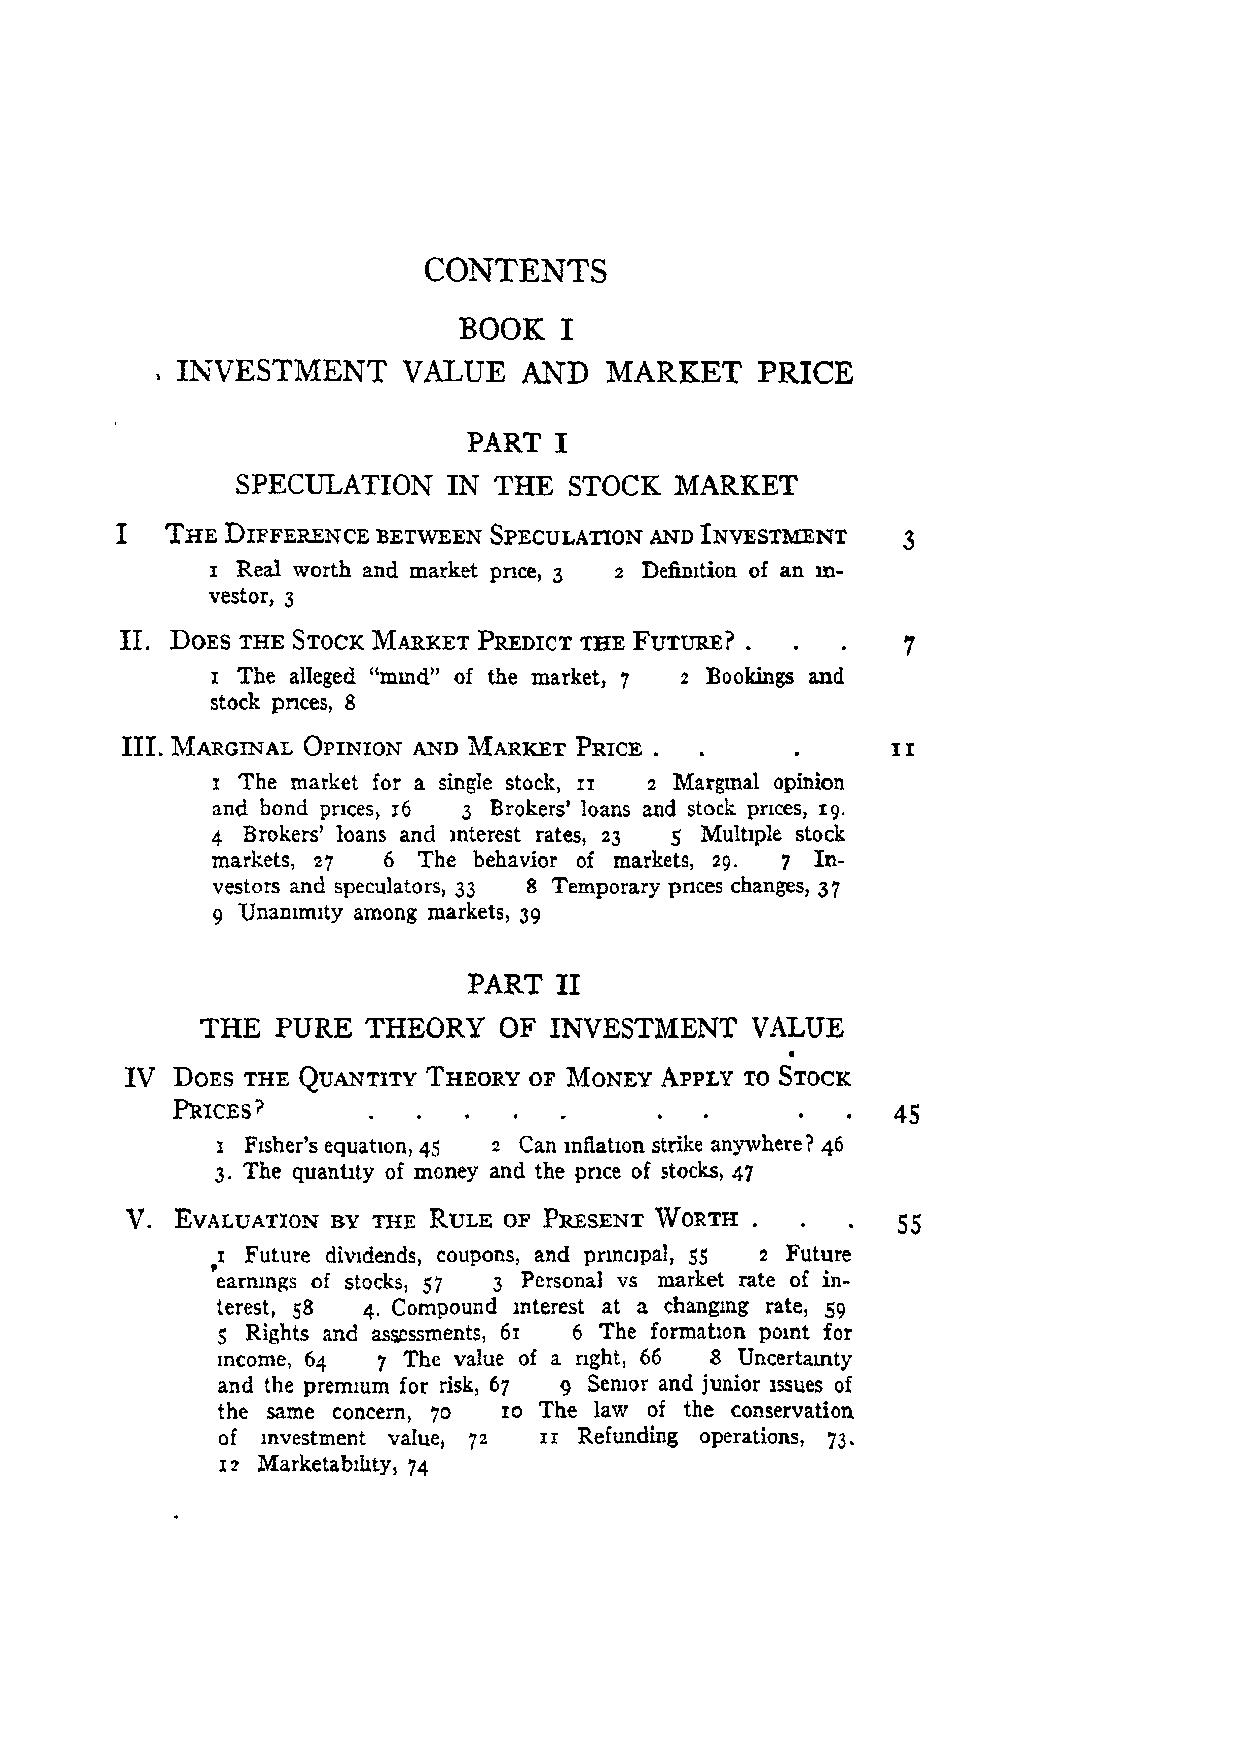TOC_chapter: (121, 1202, 855, 1482), (119, 730, 847, 929), (122, 1062, 856, 1186), (110, 515, 848, 608), (117, 623, 849, 714), (170, 315, 862, 386), (200, 973, 859, 1040), (229, 433, 815, 501)
TOC_pagenumber: (894, 1206, 919, 1237), (892, 1100, 921, 1125), (899, 629, 917, 659), (891, 743, 919, 760), (903, 526, 919, 546)
chapter: (420, 248, 611, 286)
